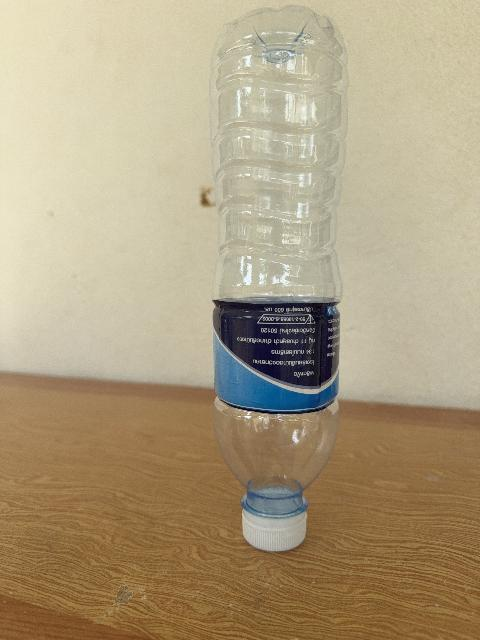bottle: (211, 6, 347, 550)
